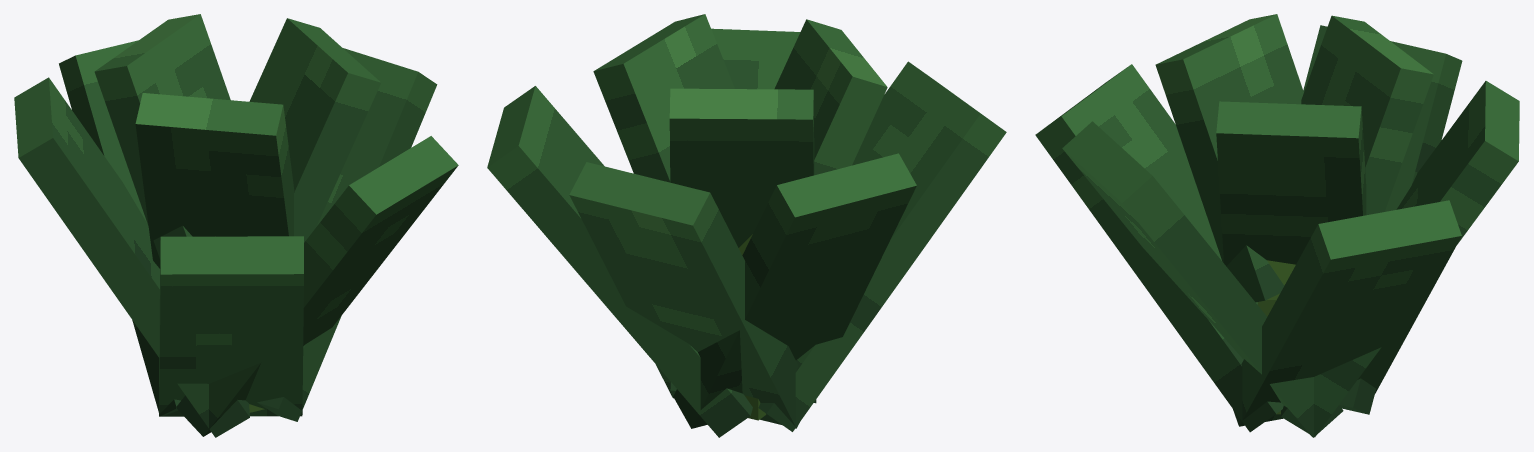
The model's file is potato_1.glb.
3 views of the same model, side by side, from view 1: azimuth 30°, elevation 25°; view 2: azimuth 150°, elevation 25°; view 3: azimuth 270°, elevation 25° (orthographic).
Parts seen in each view (by area): view 1: potato_1; view 2: potato_1; view 3: potato_1.
Part boxes in pixels (bbox=[...]): potato_1: bbox=[14, 14, 458, 437]; potato_1: bbox=[487, 14, 1006, 437]; potato_1: bbox=[1035, 14, 1519, 437].
Bounding box in the file's own units: 0.2345 × 0.1903 × 0.2376.
Materials: 1 (1 with a texture image).
